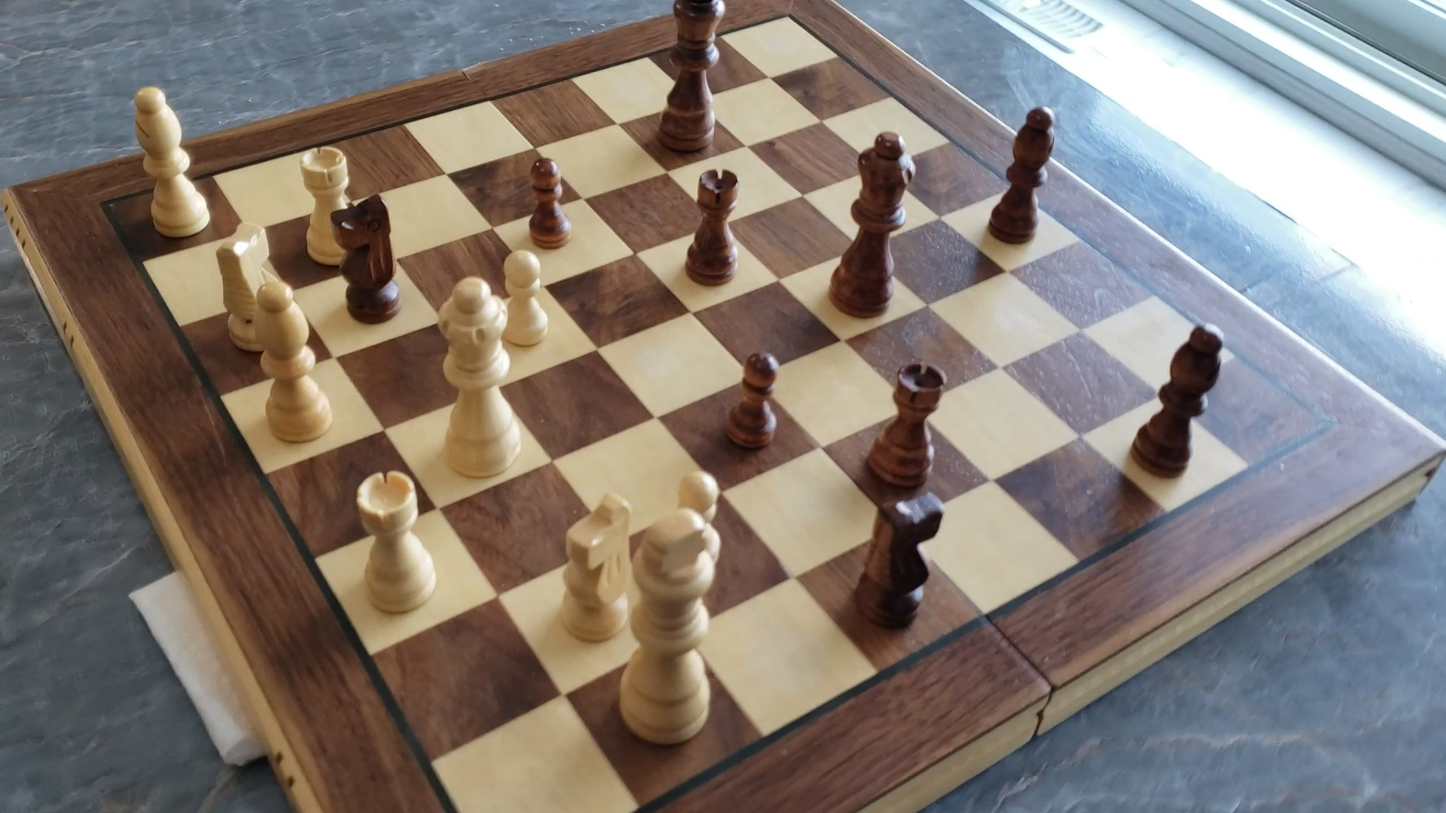black-bishop: (1127, 321, 1229, 479), (987, 102, 1057, 244)
black-king: (656, 0, 726, 157)
black-knight: (850, 489, 947, 630), (331, 191, 403, 324)
black-pawn: (723, 347, 784, 452), (525, 153, 571, 251)
black-queen: (829, 127, 918, 319)
black-rook: (865, 359, 948, 488), (685, 165, 743, 287)
white-bishop: (116, 83, 219, 237), (249, 276, 337, 447)
white-king: (611, 506, 726, 753)
white-knight: (552, 488, 640, 647), (211, 220, 279, 355)
white-pawn: (495, 244, 557, 352)
white-queen: (434, 273, 529, 483)
white-rook: (351, 467, 443, 619), (295, 141, 358, 273)
